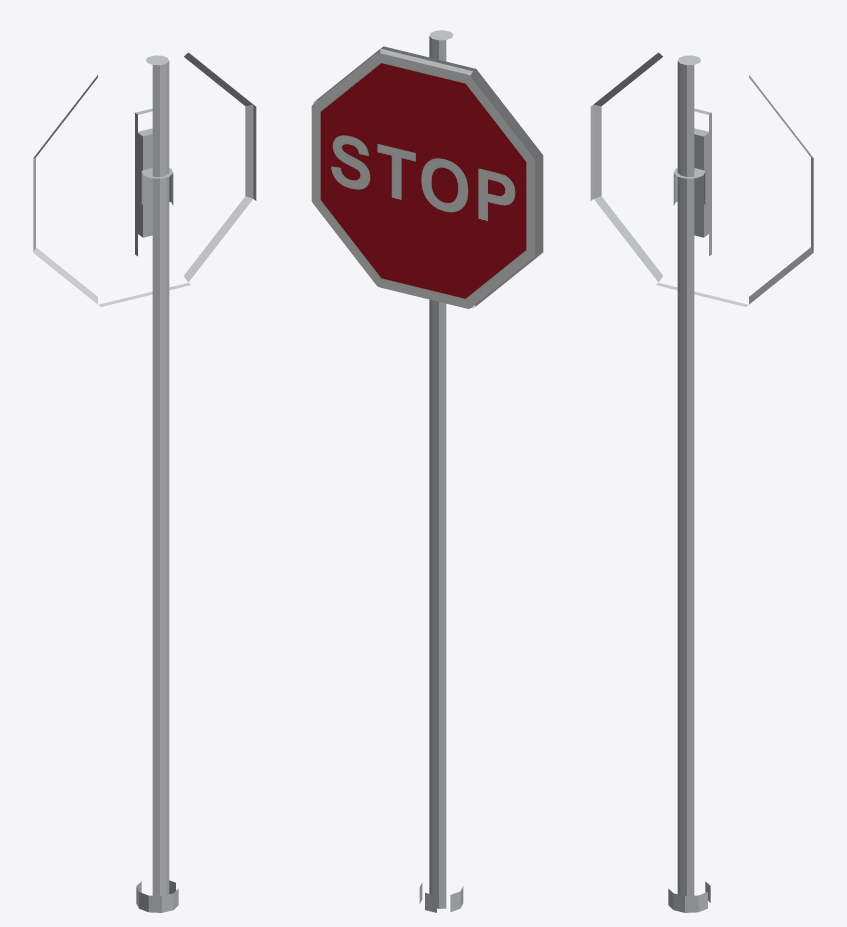
Rendered from sign_stop.glb.
3 views of the same model, side by side, from view 1: azimuth 30°, elevation 25°; view 2: azimuth 150°, elevation 25°; view 3: azimuth 330°, elevation 25° (orthographic). The views are drawn at different scales.
Visible parts, largest first — view 1: sign_stop; view 2: sign_stop; view 3: sign_stop.
Part boxes in pixels (x1,y1,x2,y2): sign_stop: (33, 52, 256, 912); sign_stop: (311, 30, 543, 912); sign_stop: (590, 52, 813, 912).
Size of the model in its own units: 0.78 by 2.51 by 0.1488.
Materials: 5 (1 with a texture image).
